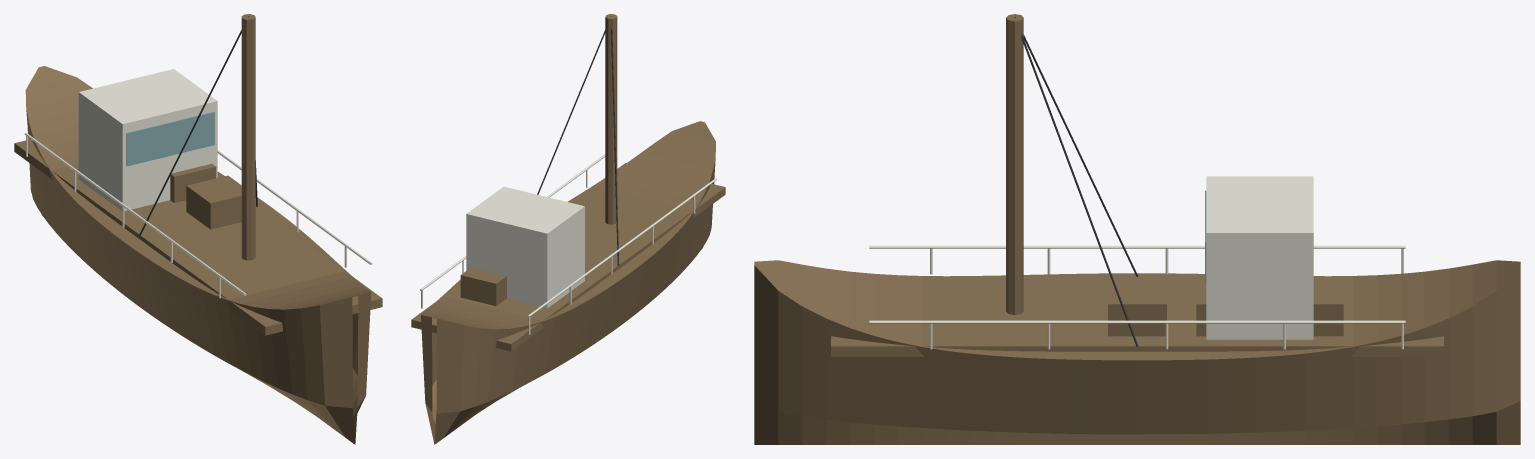
The model's file is britainfishing.gltf.
3 views of the same model, side by side, from view 1: azimuth 30°, elevation 25°; view 2: azimuth 150°, elevation 25°; view 3: azimuth 270°, elevation 25° (orthographic). The views are drawn at different scales.
Parts seen in each view (by area): view 1: britainfishing; view 2: britainfishing; view 3: britainfishing.
Boxes of the visible parts, x1=… form: britainfishing: x1=14, y1=14, x2=382, y2=444; britainfishing: x1=411, y1=14, x2=725, y2=444; britainfishing: x1=754, y1=14, x2=1520, y2=444.
Size of the model in its own units: 11.2 by 25.62 by 41.6.
